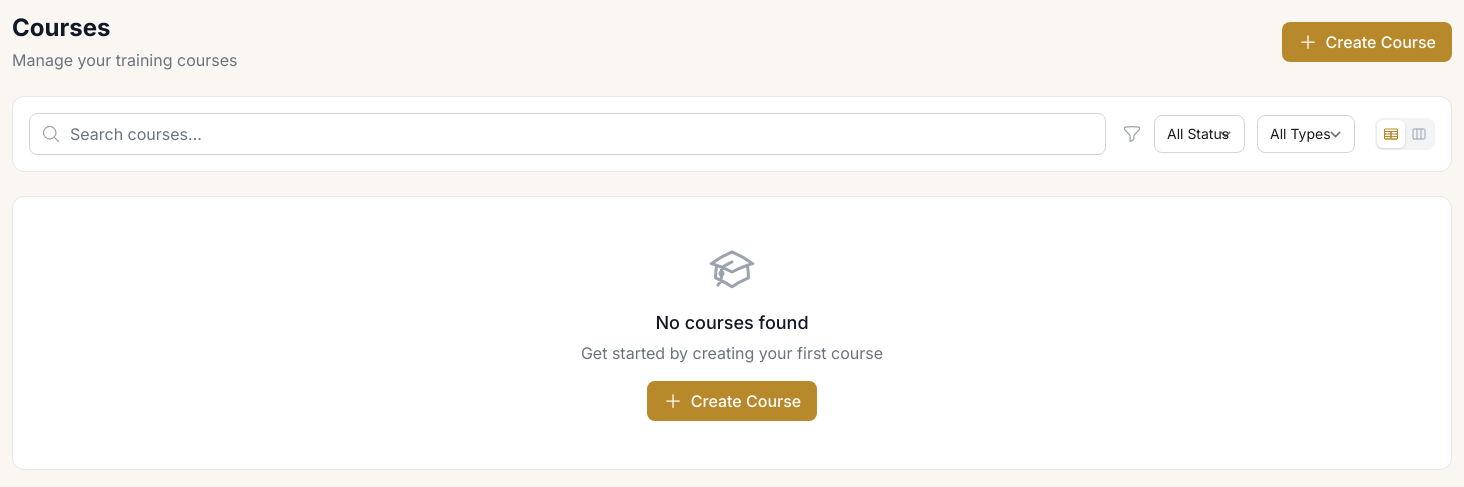
Test case: CoursesPage › page render states › shows search-specific hint when empty due to a search query
Type "xyz" into the search field at (568, 134), box [29,113,1106,155]
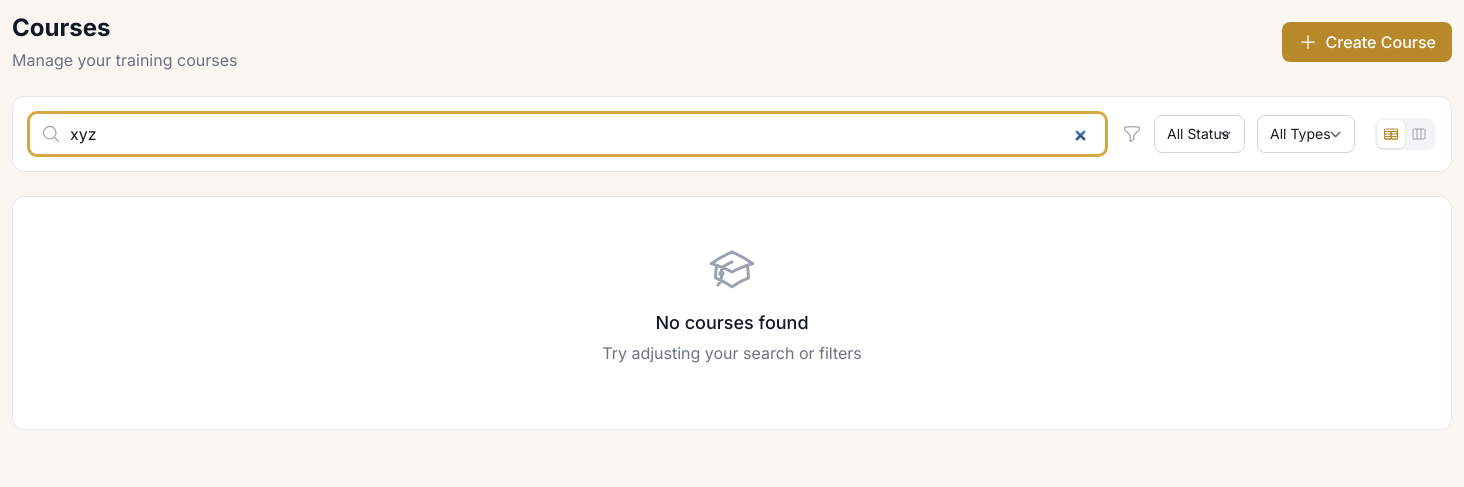
Check: the heading "No courses found" is shown, box [655,312,808,333]
Check: the text "Try adjusting your search or filters" is shown, box [602,343,862,363]
Check: the text "Get started by creating your first course" is gone
